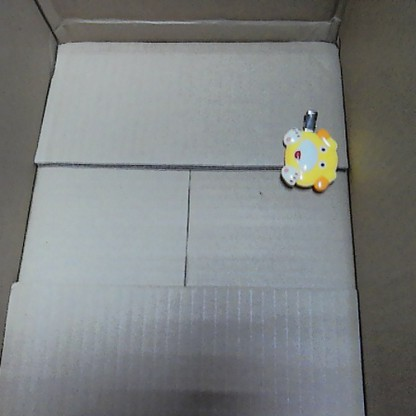dogclip: (278, 105, 338, 194)
